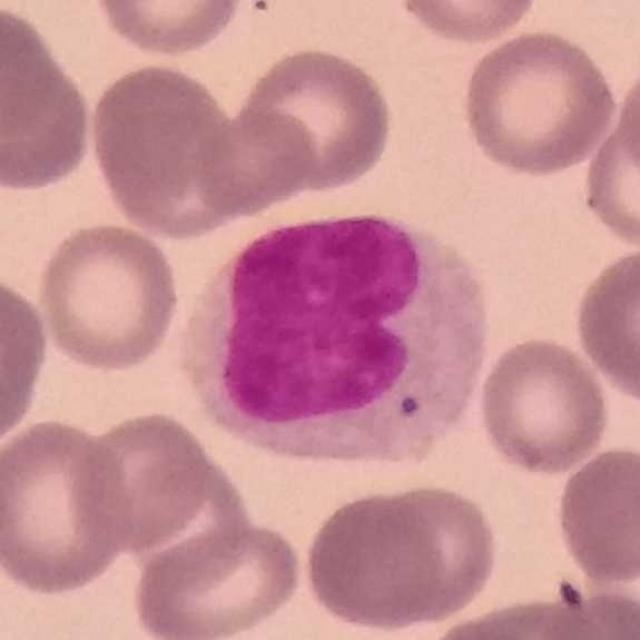mono: (182, 213, 493, 463)
